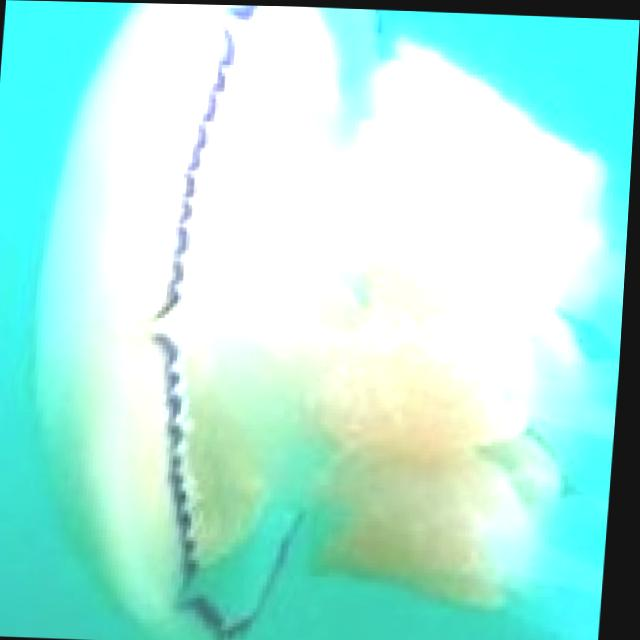Box-jellyfish: (18, 1, 638, 640)
